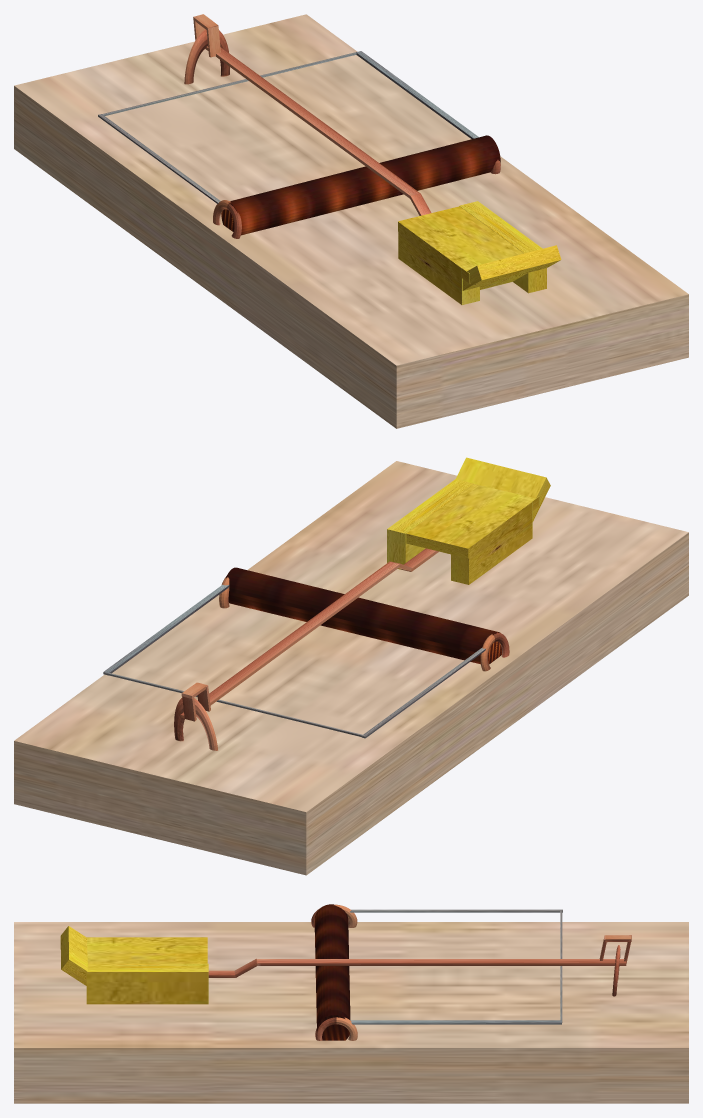
Rendered from mousetrp.obj.
The picture shows the model from 3 angles, top to bottom: view 1: azimuth 30°, elevation 25°; view 2: azimuth 150°, elevation 25°; view 3: azimuth 270°, elevation 25°; orthographic projection. The views are drawn at different scales.
Visible parts, largest first — view 1: Cube, Cylinder, Cube.004, Cube.005, Cube.002, Cube.001, Cube.003, Cube.011, Torus, Cube.013, Cube.012; view 2: Cube, Cylinder, Cube.004, Cube.002, Cube.005, Cube.001, Cube.003, Cube.011, Torus, Cube.013, Cube.012; view 3: Cube, Cube.003, Cylinder, Cube.004, Cube.005, Cube.001, Cube.011, Cube.012, Torus.006.
Part boxes in pixels (box(x1,y1,x2,y2)): Cube: box(14, 14, 688, 428); Cylinder: box(221, 135, 500, 235); Cube.004: box(398, 206, 523, 283); Cube.005: box(205, 46, 420, 198); Cube.002: box(398, 222, 479, 304); Cube.001: box(462, 245, 561, 290); Cube.003: box(459, 201, 546, 293); Cube.011: box(356, 51, 478, 138); Torus: box(184, 29, 229, 84); Cube.013: box(100, 52, 356, 115); Cube.012: box(98, 114, 220, 203); Cube: box(14, 461, 688, 875); Cylinder: box(226, 567, 501, 664); Cube.004: box(406, 484, 539, 558); Cube.002: box(451, 502, 532, 584); Cube.005: box(180, 561, 399, 718); Cube.001: box(456, 457, 550, 521); Cube.003: box(387, 479, 473, 569); Cube.011: box(103, 584, 229, 675); Torus: box(174, 698, 217, 750); Cube.013: box(105, 673, 364, 736); Cube.012: box(361, 648, 486, 738); Cube: box(14, 922, 688, 1103); Cube.003: box(86, 963, 208, 1004); Cylinder: box(314, 904, 350, 1040); Cube.004: box(86, 937, 207, 963); Cube.005: box(257, 959, 626, 965); Cube.001: box(60, 926, 87, 985); Cube.011: box(350, 1020, 561, 1024); Cube.012: box(350, 909, 562, 912); Torus.006: box(315, 1017, 357, 1040).
Size of the model in its own units: 45.42 by 17.85 by 103.
